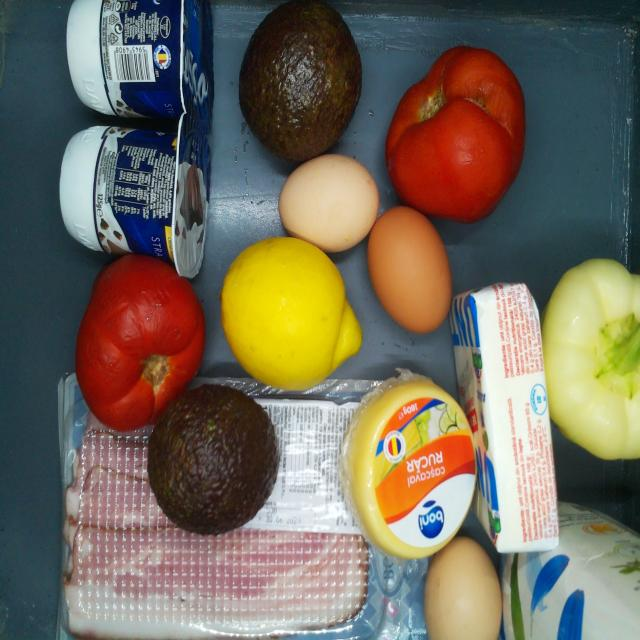avocado: (148, 381, 278, 535), (240, 5, 360, 158)
bacon: (62, 377, 423, 635)
butter: (458, 282, 560, 551)
cheese: (346, 376, 476, 560)
eggs: (280, 156, 381, 252), (370, 212, 452, 330), (429, 536, 502, 640)
lemon: (222, 237, 362, 382)
milk: (517, 518, 640, 640)
pepper: (546, 258, 637, 460)
tomatoes: (384, 48, 524, 221), (73, 256, 205, 433)
yogurt: (62, 130, 214, 278), (63, 0, 212, 124)
